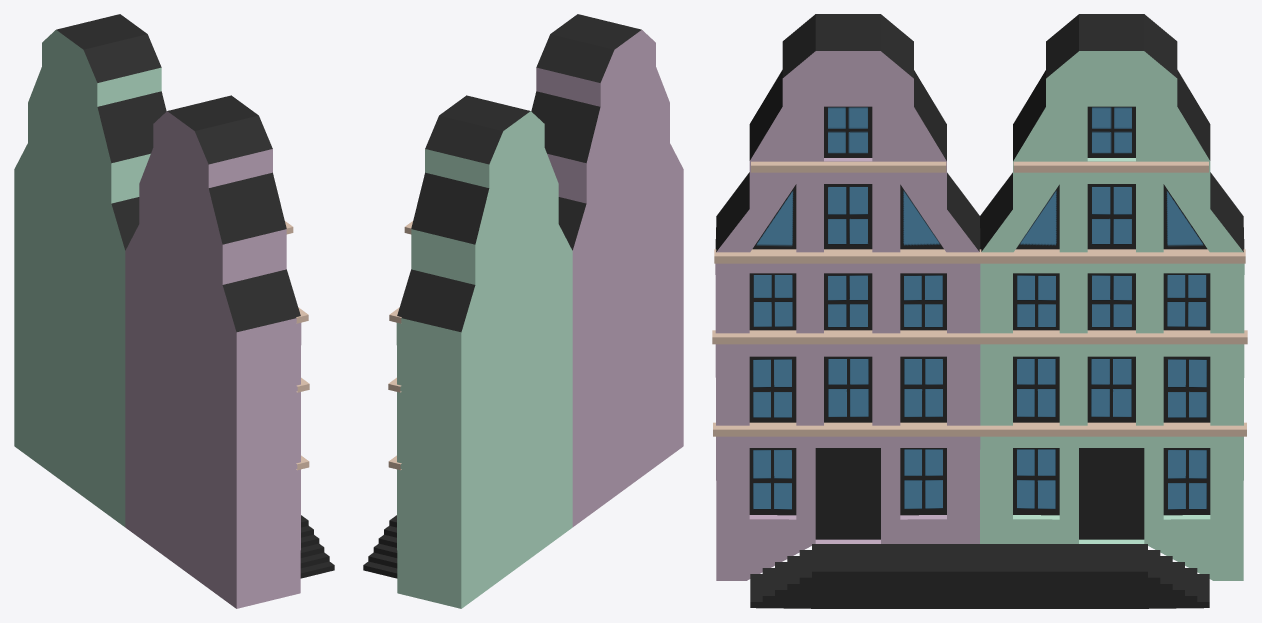
The model's file is HighDouble.obj.
3 renders of one model, left to right at view 1: azimuth 30°, elevation 25°; view 2: azimuth 150°, elevation 25°; view 3: azimuth 270°, elevation 25°, orthographic. The views are drawn at different scales.
Parts seen in each view (by area): view 1: WysokiDOUBLE; view 2: WysokiDOUBLE; view 3: WysokiDOUBLE.
Part boxes in pixels (<box>): WysokiDOUBLE: <box>14,14,334,608</box>; WysokiDOUBLE: <box>363,14,683,608</box>; WysokiDOUBLE: <box>712,14,1247,608</box>.
Bounding box in the file's own units: 3.5 × 13.31 × 12.19.
